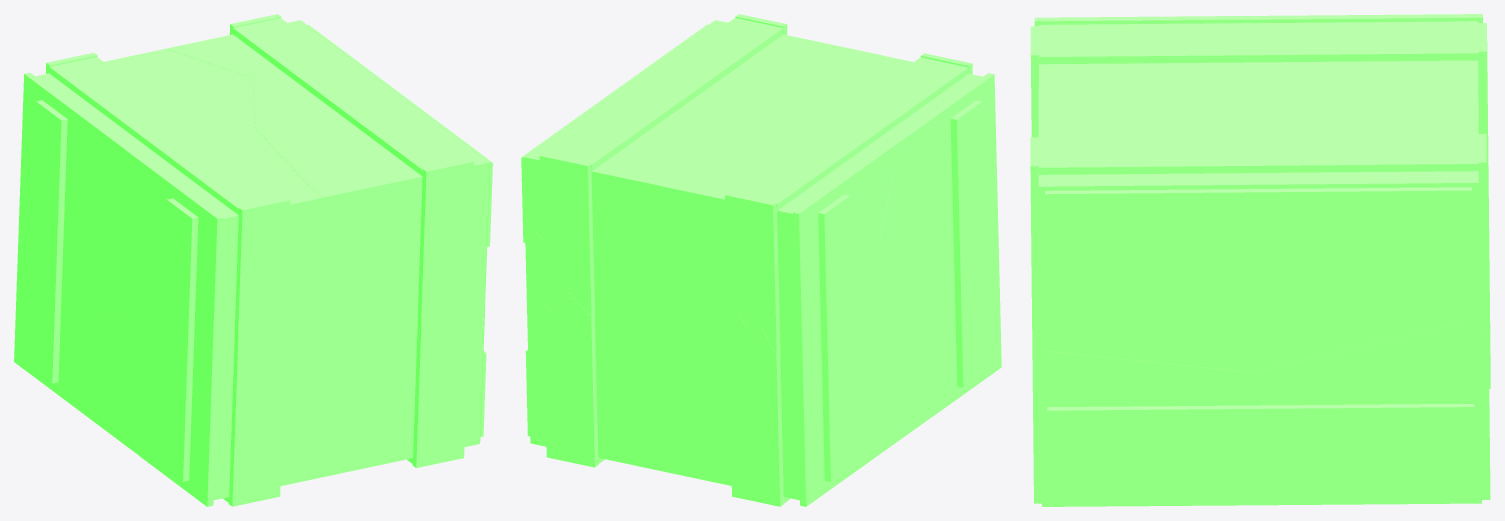
File: breakable emissive box.FBX
The picture shows the model from 3 angles, left to right: view 1: azimuth 30°, elevation 25°; view 2: azimuth 150°, elevation 25°; view 3: azimuth 270°, elevation 25°; orthographic projection. The views are drawn at different scales.
Visible parts, largest first — view 1: Crate_Piece_010, Crate_Piece_013, Crate_Piece_014, Crate_Piece_018, Crate_Piece_017, Crate_Piece_09, Crate_Piece_04, Crate_Piece_01, Crate_Piece_02, Crate_Piece_03, Crate_Piece_020; view 2: Crate_Piece_014, Crate_Piece_013, Crate_Piece_012, Crate_Piece_018, Crate_Piece_017, Crate_Piece_011, Crate_Piece_08, Crate_Piece_06, Crate_Piece_05, Crate_Piece_07, Crate_Piece_020; view 3: Crate_Piece_020, Crate_Piece_019, Crate_Piece_018, Crate_Piece_017, Crate_Piece_011, Crate_Piece_014, Crate_Piece_05, Crate_Piece_013, Crate_Piece_01, Crate_Piece_06, Crate_Piece_02, Crate_Piece_07 (+3 smaller).
Boxes of the visible parts, box(x1,y1,x2,y2) form: Crate_Piece_010: box(216, 162, 489, 435); Crate_Piece_013: box(93, 148, 223, 506); Crate_Piece_014: box(14, 72, 138, 455); Crate_Piece_018: box(166, 18, 489, 197); Crate_Piece_017: box(36, 49, 322, 218); Crate_Piece_09: box(213, 286, 485, 500); Crate_Piece_04: box(228, 325, 285, 506); Crate_Piece_01: box(417, 159, 474, 330); Crate_Piece_02: box(412, 310, 469, 467); Crate_Piece_03: box(234, 197, 290, 350); Crate_Piece_020: box(302, 21, 492, 306); Crate_Piece_014: box(793, 140, 932, 506); Crate_Piece_013: box(879, 73, 1001, 416); Crate_Piece_012: box(523, 157, 796, 380); Crate_Piece_018: box(524, 18, 883, 185); Crate_Piece_017: box(659, 56, 982, 213); Crate_Piece_011: box(524, 217, 799, 500); Crate_Piece_08: box(728, 314, 783, 506); Crate_Piece_06: box(543, 288, 598, 467); Crate_Piece_05: box(539, 153, 594, 316); Crate_Piece_07: box(725, 192, 780, 355); Crate_Piece_020: box(521, 20, 714, 242); Crate_Piece_020: box(1038, 183, 1478, 372); Crate_Piece_019: box(1040, 323, 1475, 506); Crate_Piece_018: box(1038, 86, 1478, 186); Crate_Piece_017: box(1039, 21, 1478, 124); Crate_Piece_011: box(1459, 250, 1481, 503); Crate_Piece_014: box(1248, 14, 1482, 23); Crate_Piece_05: box(1478, 133, 1488, 329); Crate_Piece_013: box(1034, 16, 1250, 26); Crate_Piece_01: box(1030, 137, 1040, 334); Crate_Piece_06: box(1480, 294, 1490, 499); Crate_Piece_02: box(1032, 335, 1041, 503); Crate_Piece_07: box(1478, 23, 1488, 201).
Bounding box in the file's own units: 105 × 105 × 123.
